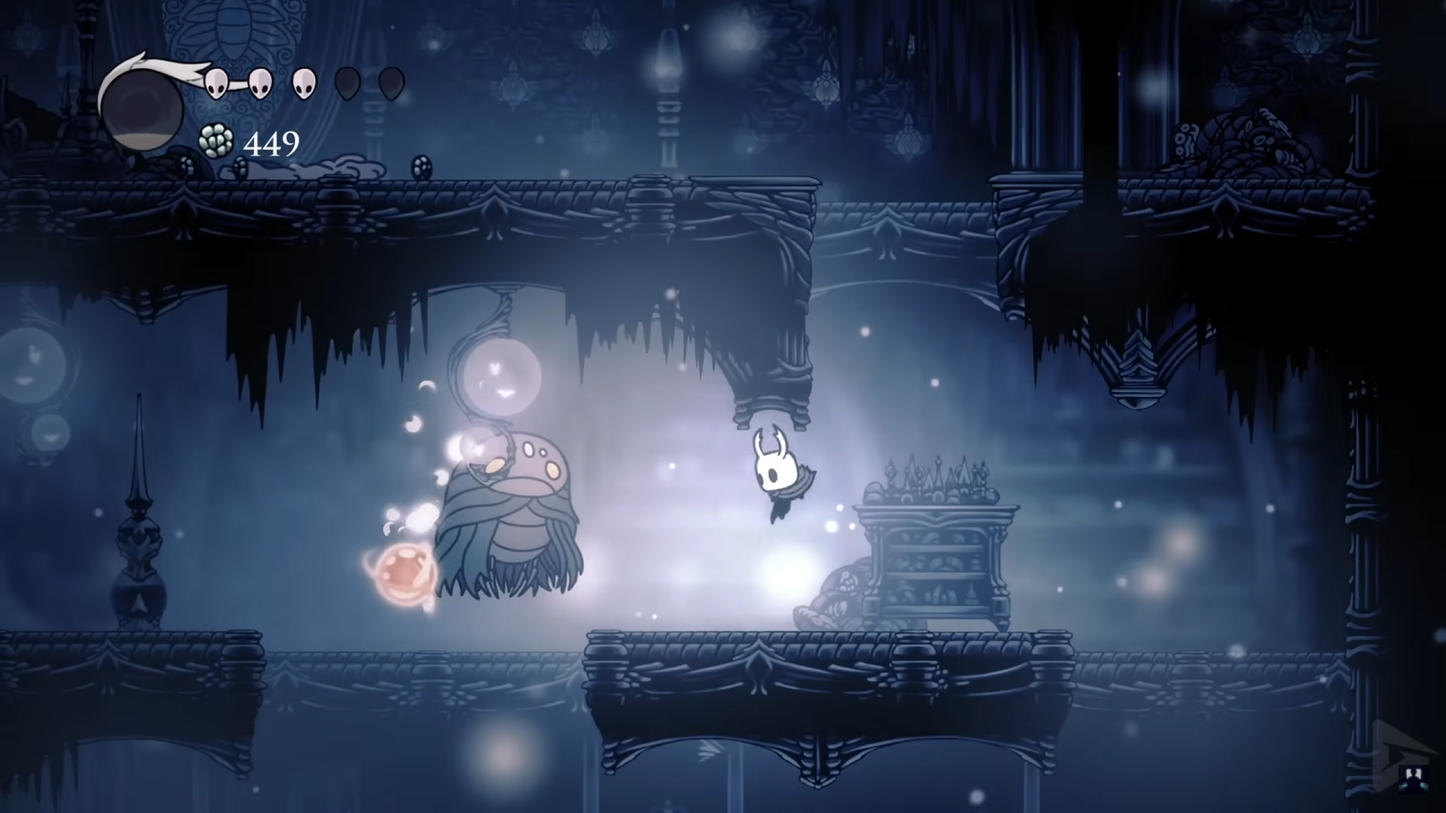HK: (749, 425, 810, 525)
